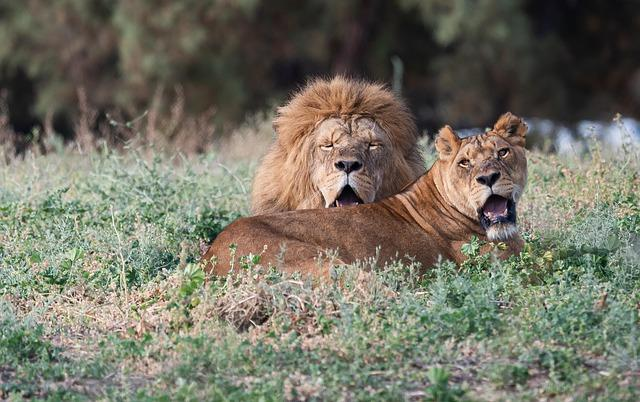Non_Gorille: (196, 37, 583, 299)
